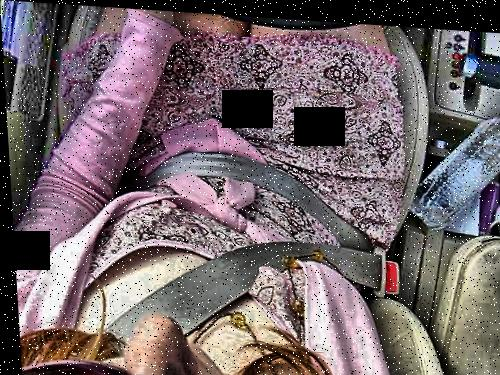seatbelt: (145, 129, 423, 301)
